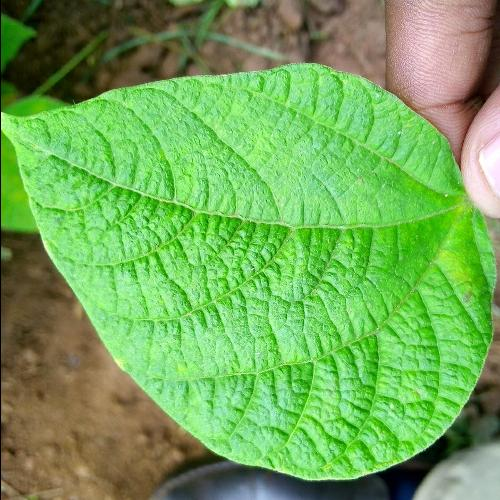sehat: (118, 131, 388, 332)
